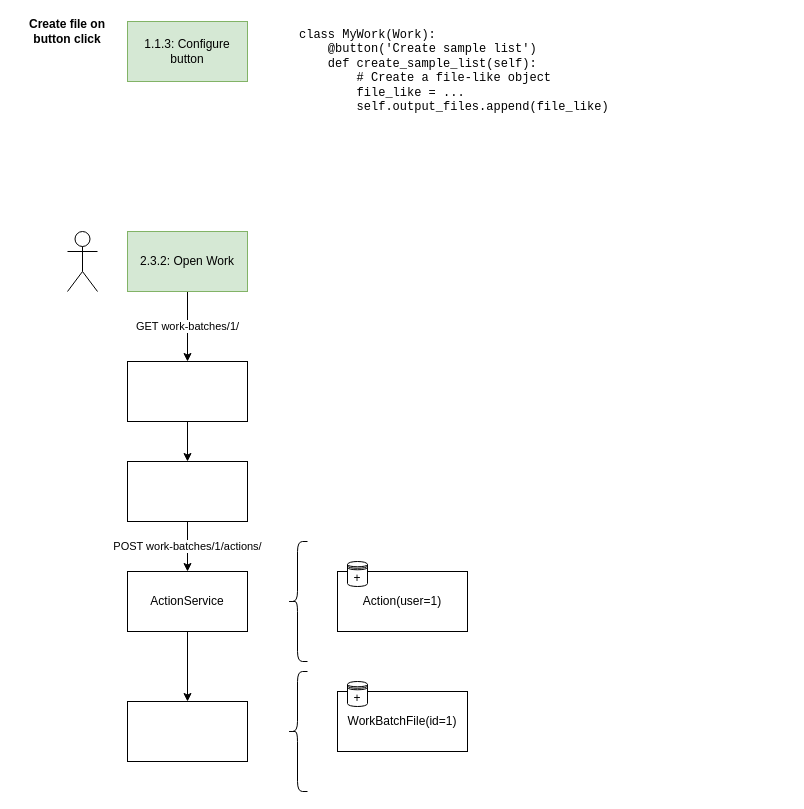
The diagram is 804 pixels wide and 809 high, and some of its shapes have lost their labels. The shapes that lost their labels are listed below. From the top down, each one's box as (x1, y1, x2, y2) in pixels, then its label:
(66, 230, 98, 292): RE
(126, 360, 248, 422): Show button "Create sample list"
(126, 460, 248, 522): User clicks the button
(126, 700, 248, 762): create_sample_list
